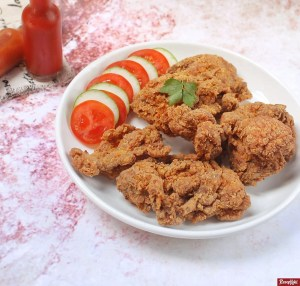Ayam: (113, 167, 244, 239), (139, 51, 245, 127), (211, 100, 296, 164)
